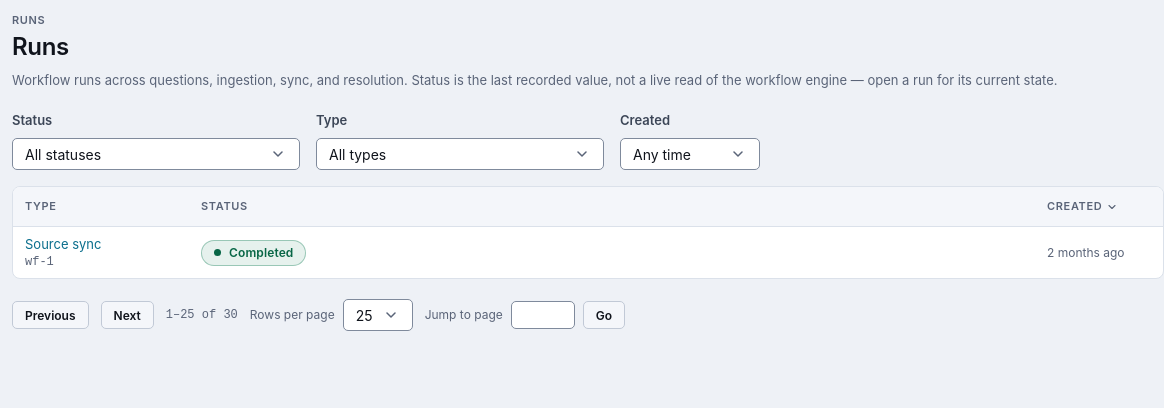
Test: RunsPage › resets paging to the first page in the same patch as applying a filter, and keeps the URL clean at defaults
Expected: the link "Source sync" is shown, [25,236,102,252]
Click the button "Next" at x=127, y=315, box [100,301,154,329]
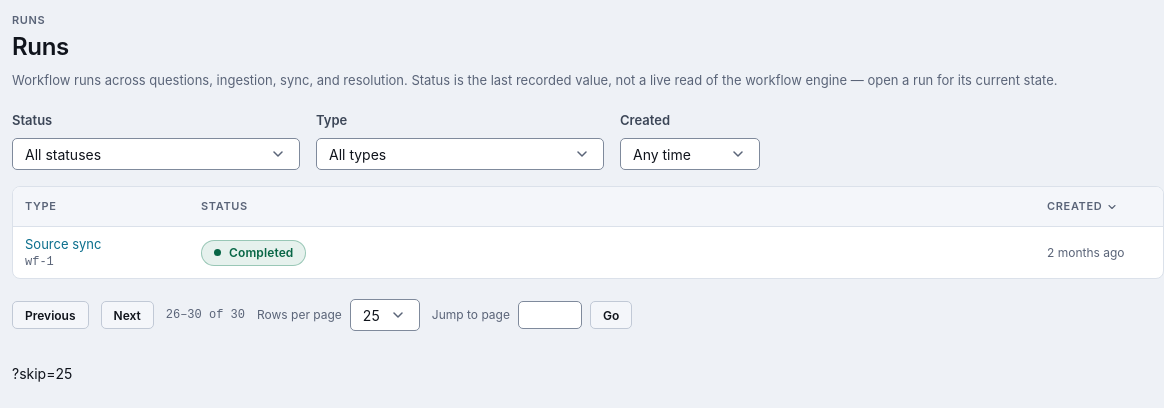
Expected: the text "26–30 of 30" is shown, [166,306,245,325]
Select "Failed" in the dropdown labelled "Status" at x=156, y=154, box [12,138,300,170]
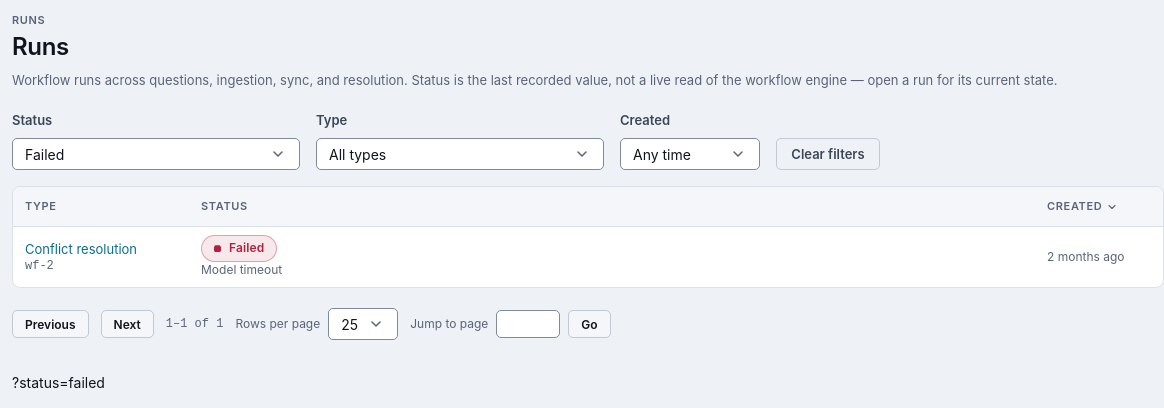
Expected: the text "1–1 of 1" is shown, [166,315,223,333]
Expected: the text named "current search" reads "?status=failed", [12,374,105,391]
